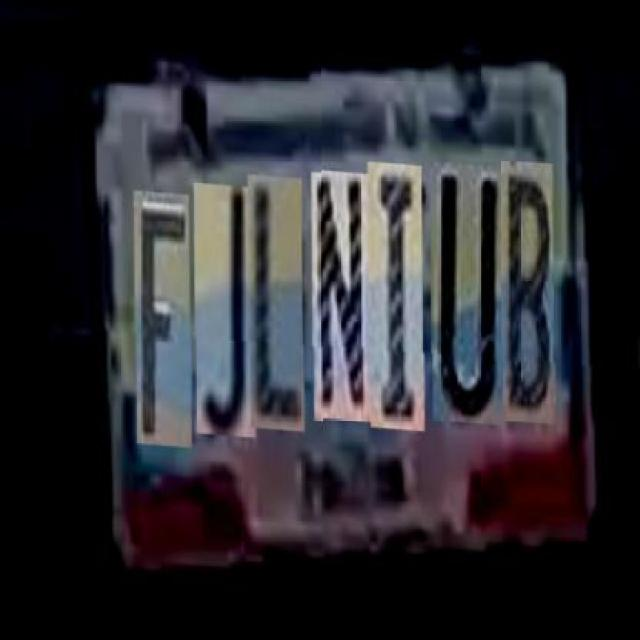b: (500, 152, 554, 417)
f: (135, 188, 191, 444)
i: (368, 158, 424, 427)
j: (194, 179, 254, 433)
l: (248, 170, 304, 427)
n: (312, 166, 372, 419)
u: (430, 156, 504, 419)
